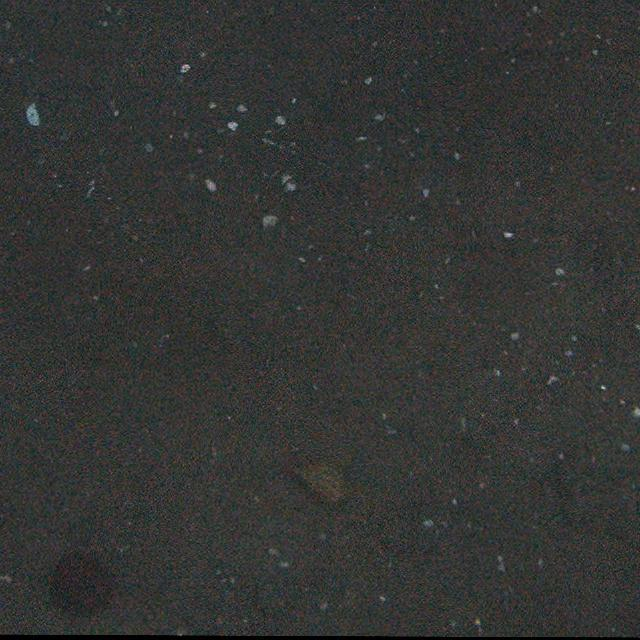whelk: (284, 454, 351, 508)
